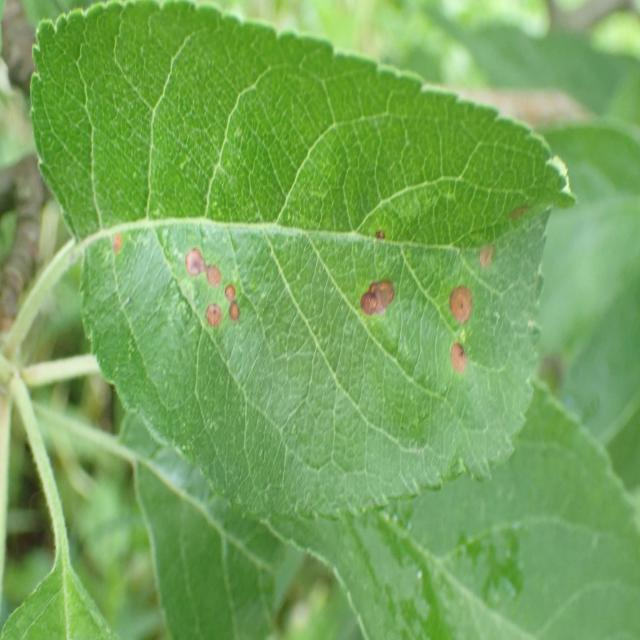Black Rot: (348, 267, 402, 329), (172, 239, 225, 287), (440, 279, 482, 336), (197, 298, 230, 352), (468, 226, 500, 280), (97, 227, 132, 274), (444, 343, 476, 392), (225, 282, 247, 332)
